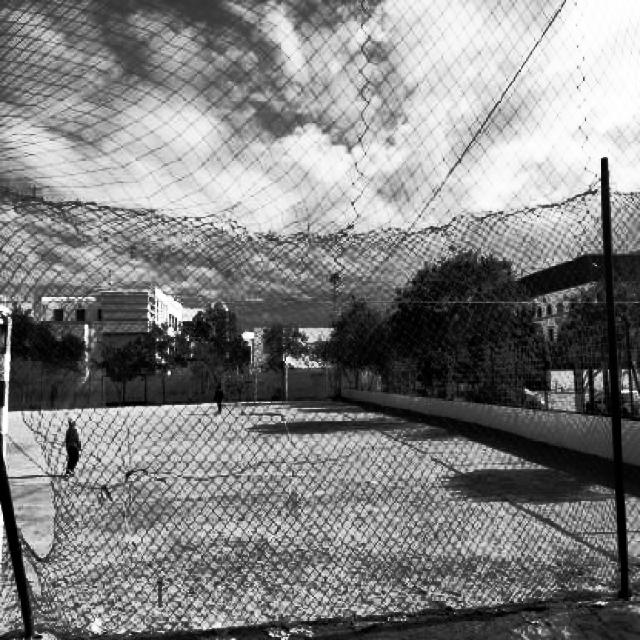anomaly-fence: (2, 364, 111, 631)
